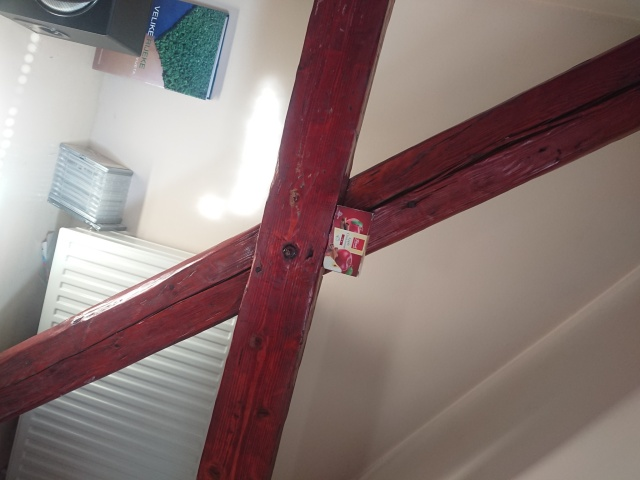Franck Apple Cinnamon Tea 60g: (319, 202, 375, 277)
